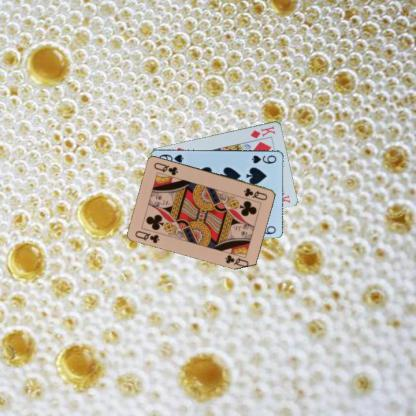9s: (250, 152, 277, 164)
Kd: (248, 123, 276, 139)
Qc: (133, 228, 161, 245), (242, 185, 269, 202)
